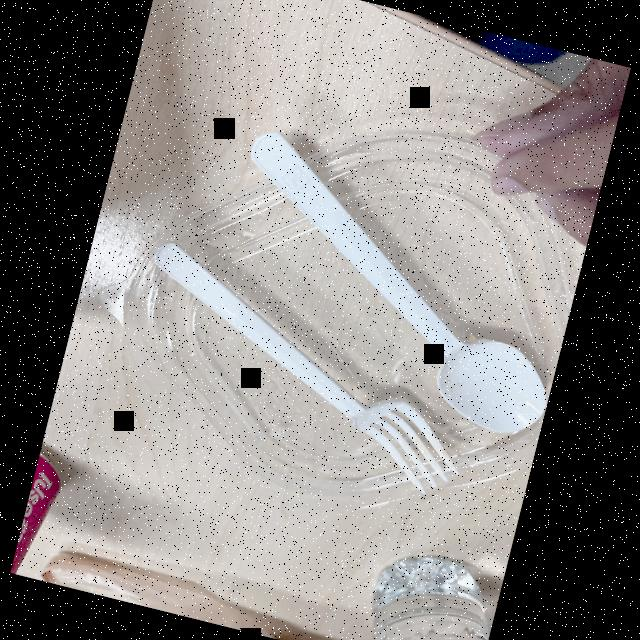plastic_spoon: (187, 126, 594, 452), (100, 218, 503, 512)
